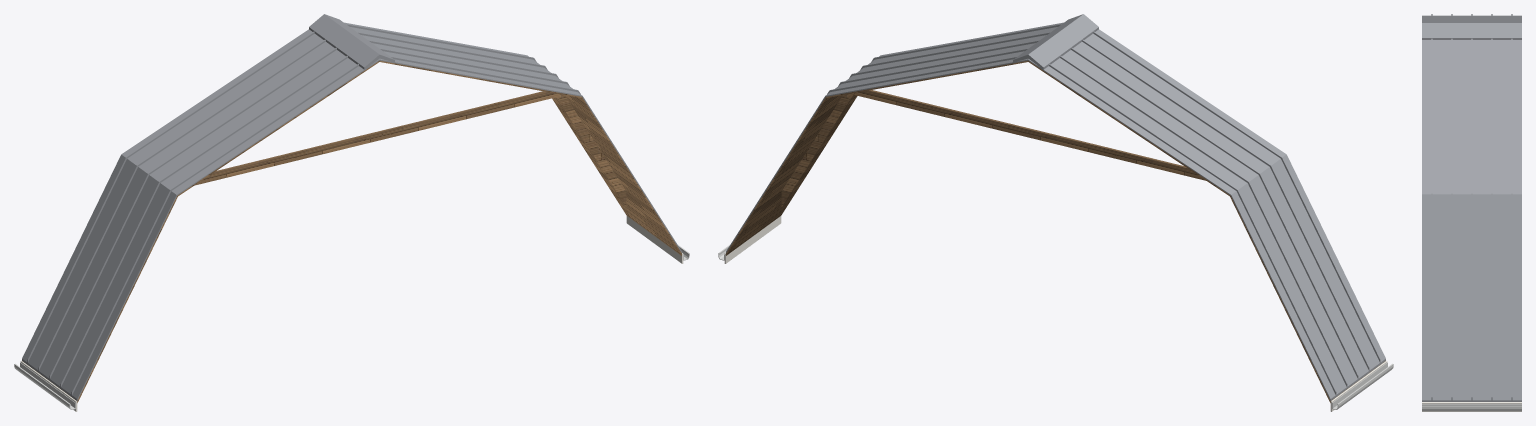
File: barn_roof.glb
3 views of the same model, side by side, from view 1: azimuth 30°, elevation 25°; view 2: azimuth 150°, elevation 25°; view 3: azimuth 270°, elevation 25° (orthographic). The views are drawn at different scales.
Visible parts, largest first — view 1: barn_roof_metal, barn_roof_planks, barn_roof_gutter, barn_roof_trim; view 2: barn_roof_metal, barn_roof_planks, barn_roof_gutter, barn_roof_trim; view 3: barn_roof_metal, barn_roof_gutter, barn_roof_trim.
Boxes of the visible parts, x1,y1,x2,y2 form: barn_roof_metal: [22, 14, 681, 400]; barn_roof_planks: [22, 60, 681, 402]; barn_roof_gutter: [14, 244, 689, 409]; barn_roof_trim: [20, 216, 683, 411]; barn_roof_metal: [726, 14, 1385, 400]; barn_roof_planks: [726, 60, 1385, 402]; barn_roof_gutter: [718, 244, 1393, 409]; barn_roof_trim: [724, 216, 1387, 411]; barn_roof_metal: [1422, 14, 1521, 401]; barn_roof_gutter: [1422, 404, 1521, 411]; barn_roof_trim: [1422, 402, 1521, 411].
Size of the model in its own units: 12.92 by 5.64 by 2.
Materials: 4 (1 with a texture image).
